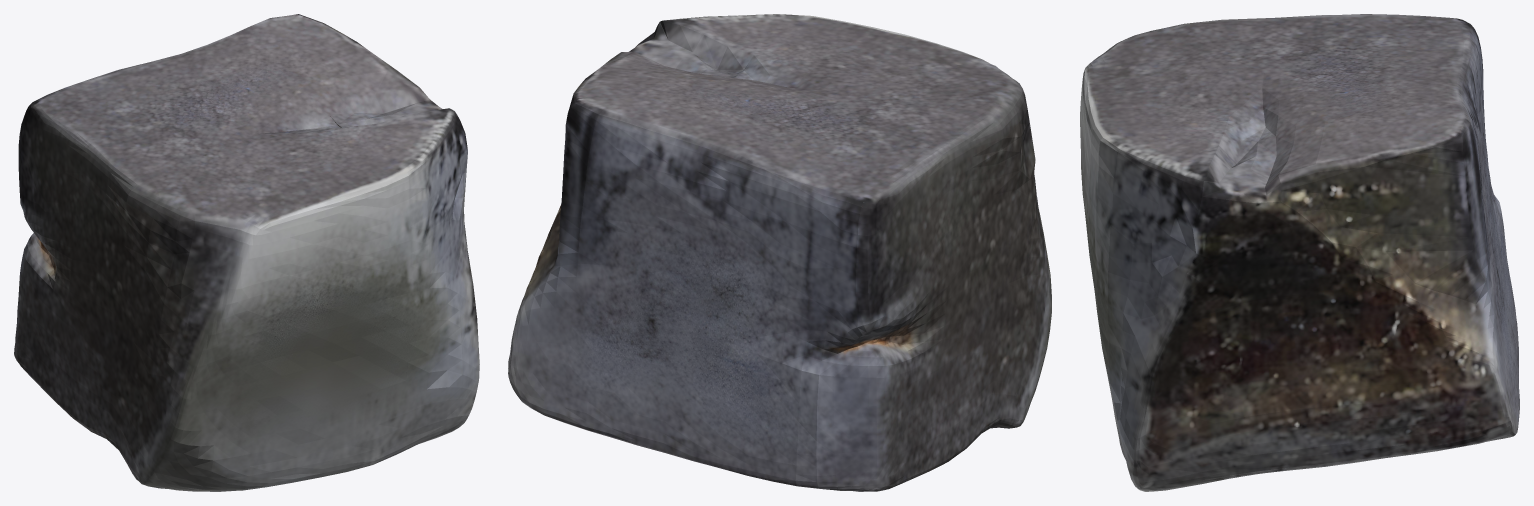
The model's file is zircon_001.glb.
3 views of the same model, side by side, from view 1: azimuth 30°, elevation 25°; view 2: azimuth 150°, elevation 25°; view 3: azimuth 270°, elevation 25° (orthographic). The views are drawn at different scales.
Parts seen in each view (by area): view 1: tripo_node_2da8c02e-b383-427f-b26f-e2c02ff209c8; view 2: tripo_node_2da8c02e-b383-427f-b26f-e2c02ff209c8; view 3: tripo_node_2da8c02e-b383-427f-b26f-e2c02ff209c8.
Boxes of the visible parts, <box> form: tripo_node_2da8c02e-b383-427f-b26f-e2c02ff209c8: <box>14,14,479,491</box>; tripo_node_2da8c02e-b383-427f-b26f-e2c02ff209c8: <box>508,14,1051,491</box>; tripo_node_2da8c02e-b383-427f-b26f-e2c02ff209c8: <box>1080,14,1519,491</box>.
Bounding box in the file's own units: 0.9157 × 0.852 × 0.9448.
Materials: 1 (1 with a texture image).
